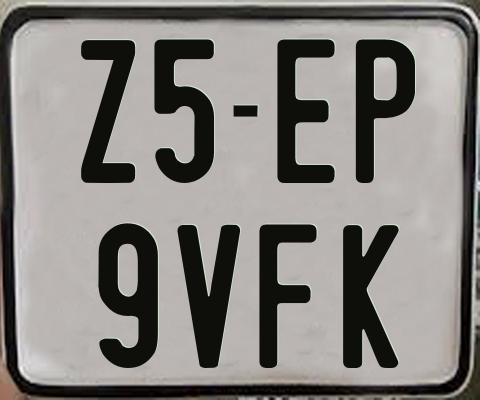5: (152, 38, 218, 184)
9: (96, 223, 157, 373)
E: (275, 38, 334, 188)
F: (256, 224, 318, 368)
K: (341, 222, 399, 365)
P: (355, 37, 417, 185)
V: (176, 224, 241, 369)
Z: (80, 39, 134, 184)
